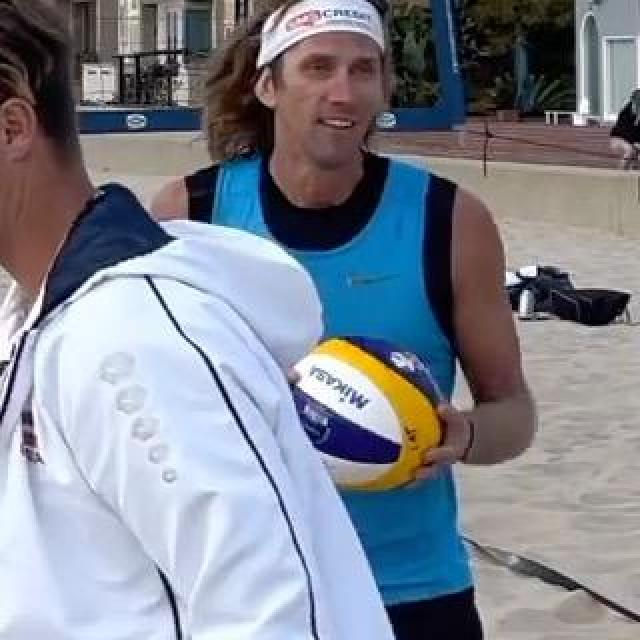volleyball: (281, 334, 447, 490)
